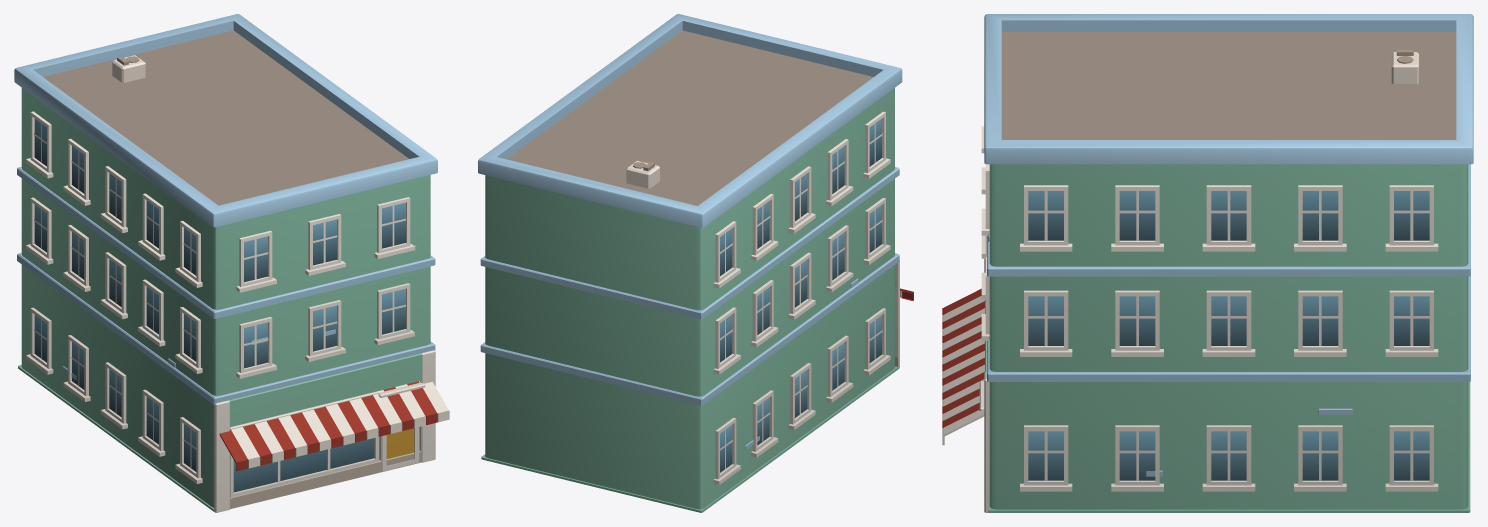
Rendered from boylston_s8.glb.
3 views of the same model, side by side, from view 1: azimuth 30°, elevation 25°; view 2: azimuth 150°, elevation 25°; view 3: azimuth 270°, elevation 25° (orthographic). The views are drawn at different scales.
Visible parts, largest first — view 1: boylston_s8; view 2: boylston_s8; view 3: boylston_s8.
Boxes of the visible parts, <box> form: boylston_s8: <box>14,14,449,512</box>; boylston_s8: <box>478,14,913,512</box>; boylston_s8: <box>942,14,1473,512</box>.
Bounding box in the file's own units: 9.48 × 12.19 × 15.55.
1 material, 1 textured.
